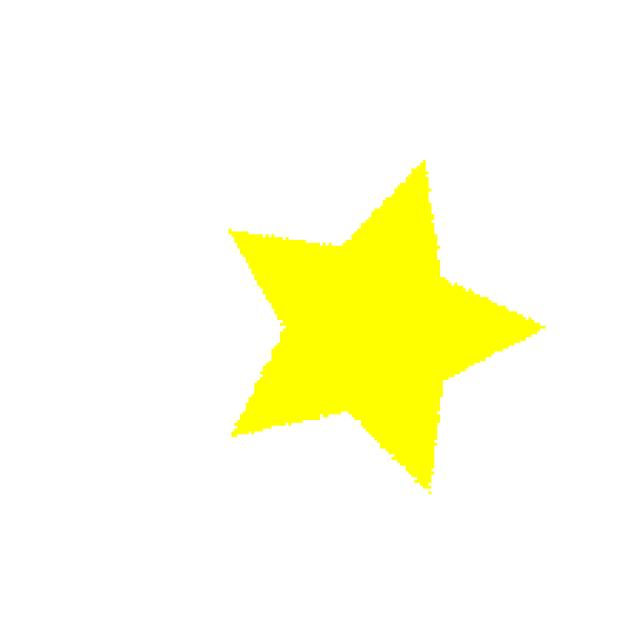Star: (210, 133, 561, 554)
